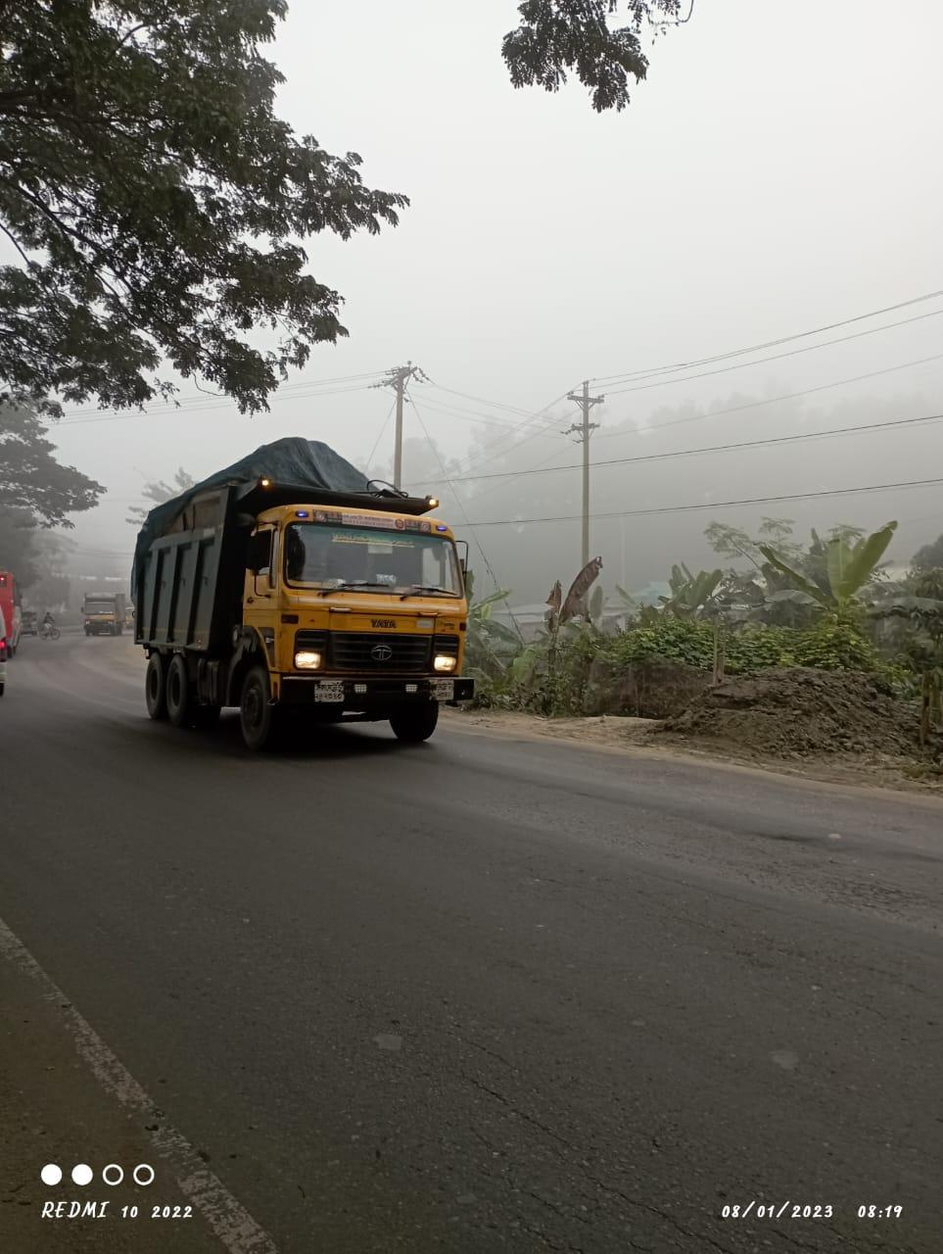Truck: (126, 439, 482, 744), (71, 581, 130, 647)
